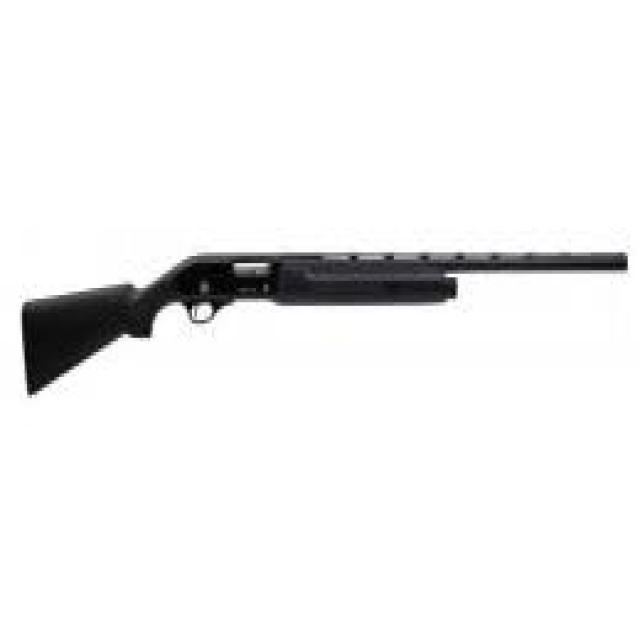rifle: (18, 233, 632, 404)
